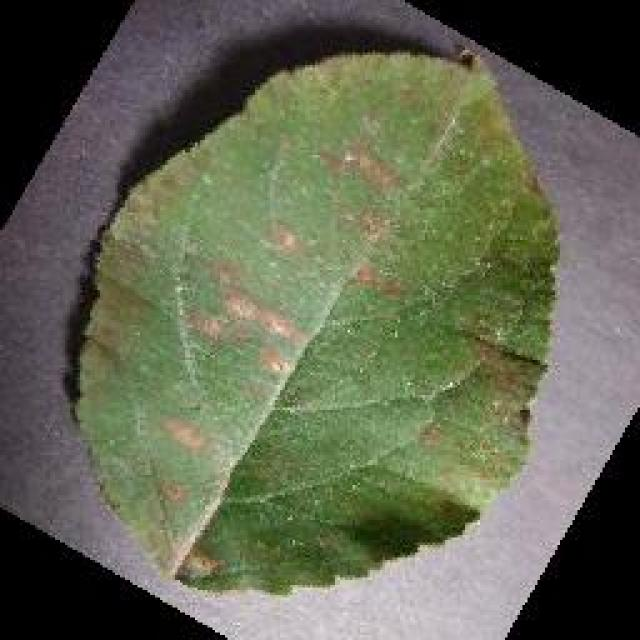apple healthy: (68, 45, 560, 595)
